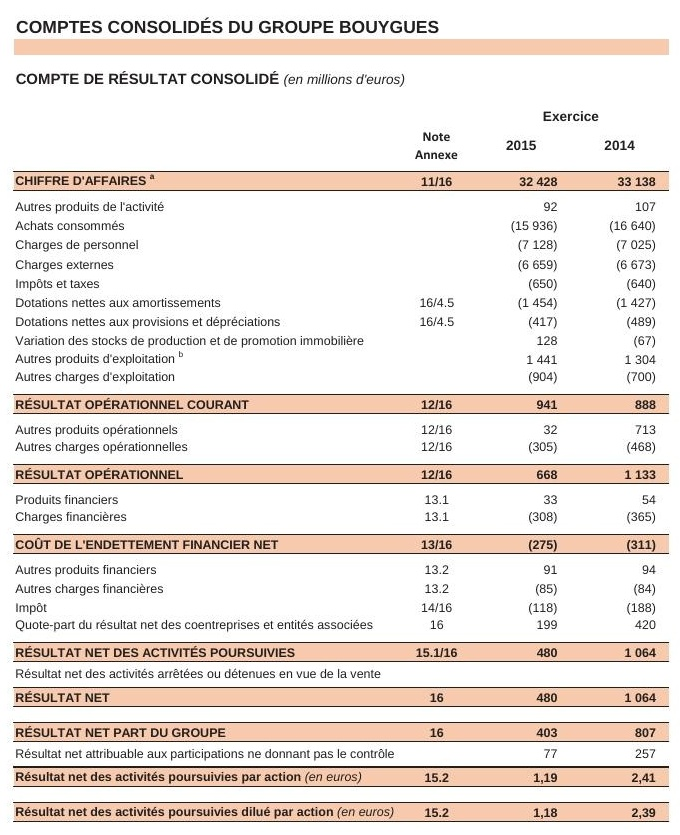table: (0, 0, 680, 835)
